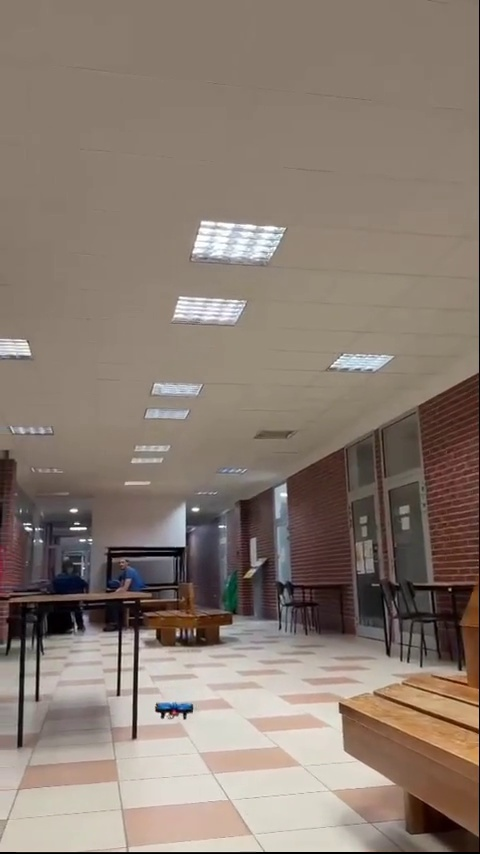drone: (149, 701, 194, 721)
no vest: (107, 547, 152, 614), (48, 562, 83, 626)
